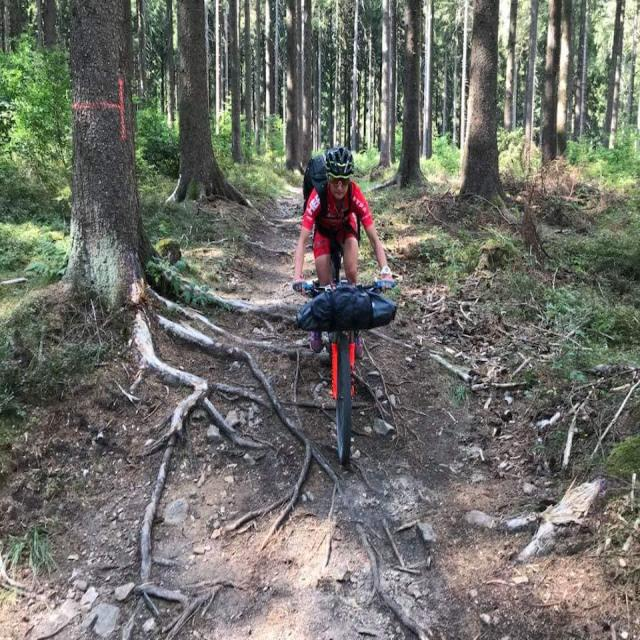bicycle: (292, 147, 396, 464)
